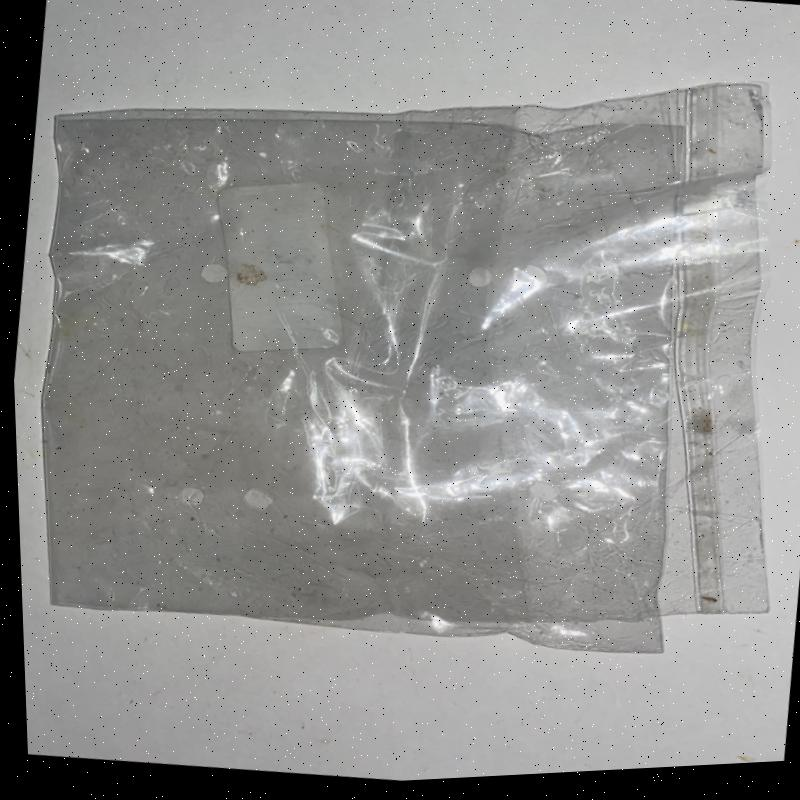plastic bag: (39, 83, 772, 657)
